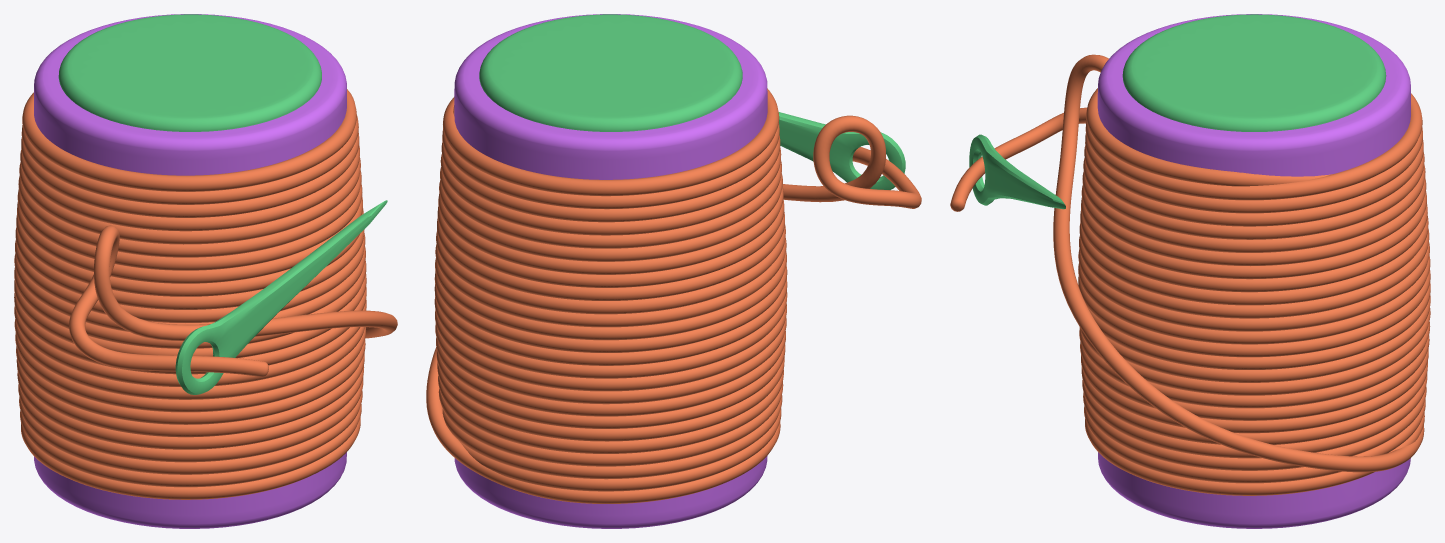
Rendered from 5. Needle and Thread.glb.
The picture shows the model from 3 angles, left to right: view 1: azimuth 30°, elevation 25°; view 2: azimuth 150°, elevation 25°; view 3: azimuth 270°, elevation 25°; orthographic projection.
Visible parts, largest first — view 1: Spiral, Thread, Cylinder.002, Needle; view 2: Spiral, Thread, Cylinder.002, Needle; view 3: Spiral, Thread, Cylinder.002, Needle.
Part boxes in pixels (x1,y1,x2,y2): Spiral: (14,89,397,499); Thread: (34,14,346,528); Cylinder.002: (58,14,321,131); Needle: (175,200,387,394); Spiral: (426,88,921,503); Thread: (454,14,767,528); Cylinder.002: (479,14,742,131); Needle: (778,112,905,190); Spiral: (950,54,1430,495); Thread: (1097,14,1410,528); Cylinder.002: (1122,14,1386,131); Needle: (969,134,1065,209).
Size of the model in its own units: 0.1511 by 0.1562 by 0.1657.
